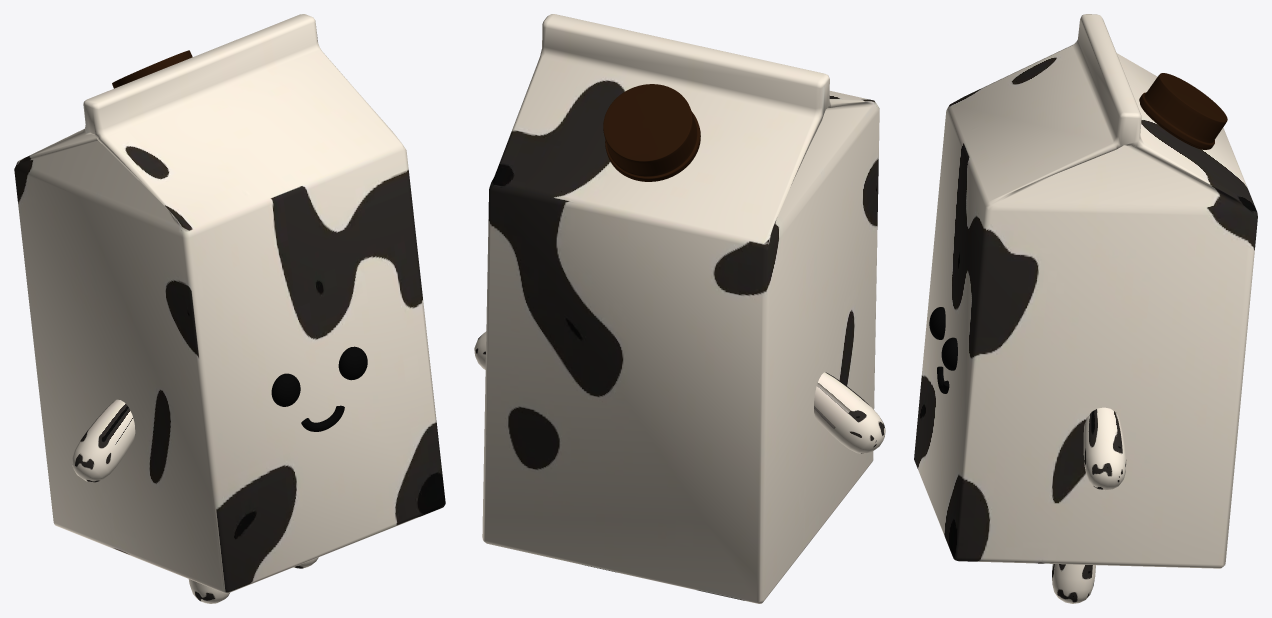
Rendered from milk.glb.
3 views of the same model, side by side, from view 1: azimuth 30°, elevation 25°; view 2: azimuth 150°, elevation 25°; view 3: azimuth 270°, elevation 25° (orthographic). The views are drawn at different scales.
Parts seen in each view (by area): view 1: Body, Eyes, Cylinder; view 2: Body, Cylinder; view 3: Body, Cylinder, Eyes.
Boxes of the visible parts, x1,y1,x2,y2 form: Body: [14, 14, 445, 603]; Eyes: [271, 346, 367, 406]; Cylinder: [112, 50, 192, 88]; Body: [474, 14, 885, 603]; Cylinder: [603, 84, 700, 181]; Body: [914, 14, 1257, 603]; Cylinder: [1139, 73, 1227, 149]; Eyes: [929, 307, 957, 370].
Bounding box in the file's own units: 2.86 × 4.08 × 2.48.
Materials: 3 (1 with a texture image).
